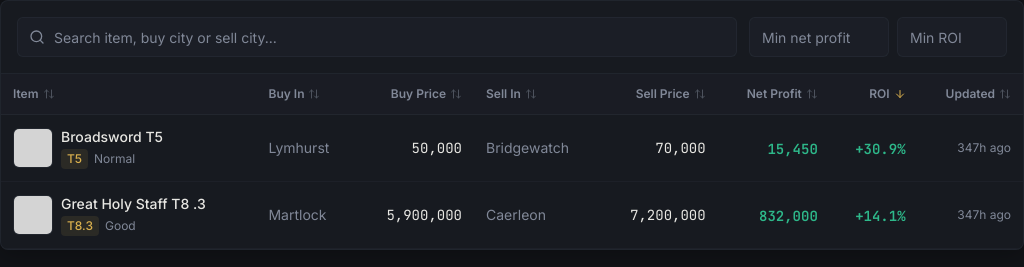
Test: ArbitrageTable refinements › deve filtrar oportunidades por lucro liquido minimo
Type "100000" into the number field with placeholder "Min net profit" at [819, 37], box [749,17,889,57]
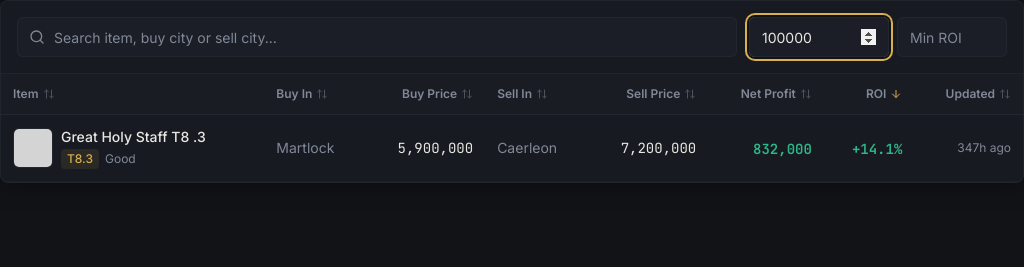
Expected: the text "Great Holy Staff T8 .3" is shown, [61,127,206,147]
Result: the text "Broadsword T5" is gone
